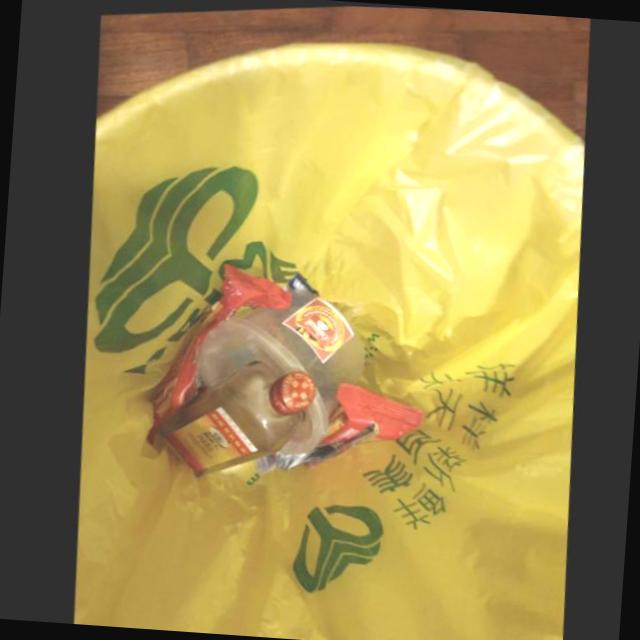chai_thuy_tinh: (151, 358, 316, 475)
hop_nhua: (194, 288, 366, 460)
